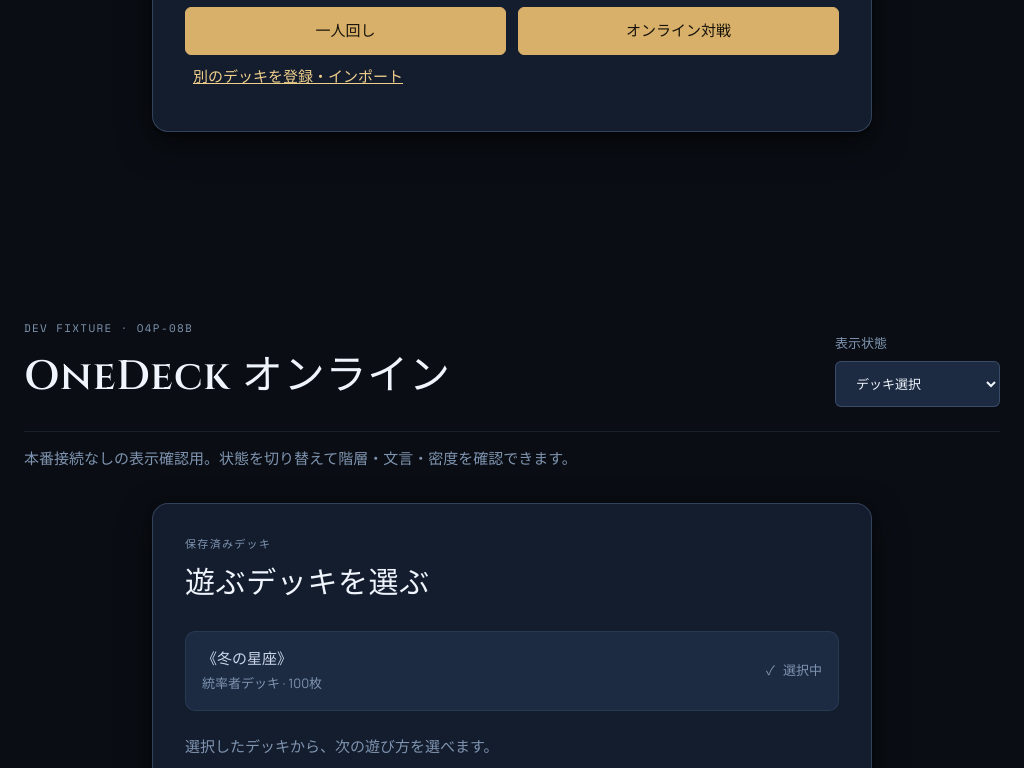
Scenario: O4P-08B disconnected online lobby prototype › keeps guest at deck submission with no host utilities
(page scrolled)
Step 1. Select "ゲストロビー" in the dropdown labelled "表示状態" → (918, 384), box [835,361,1000,407]
(page scrolled)
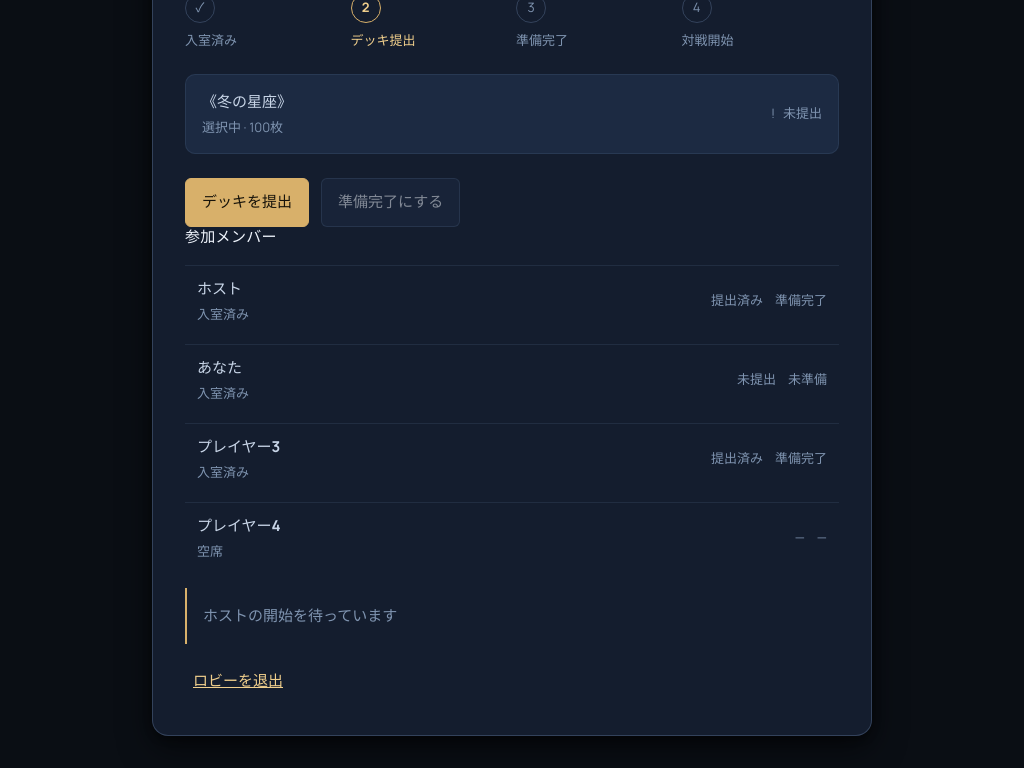
Now the text "ホスト" is shown, box [197,278,249,301]
Now the text "あなた" is shown, box [197,357,249,380]
Now the text "未提出" is shown, box [783,104,822,122]
